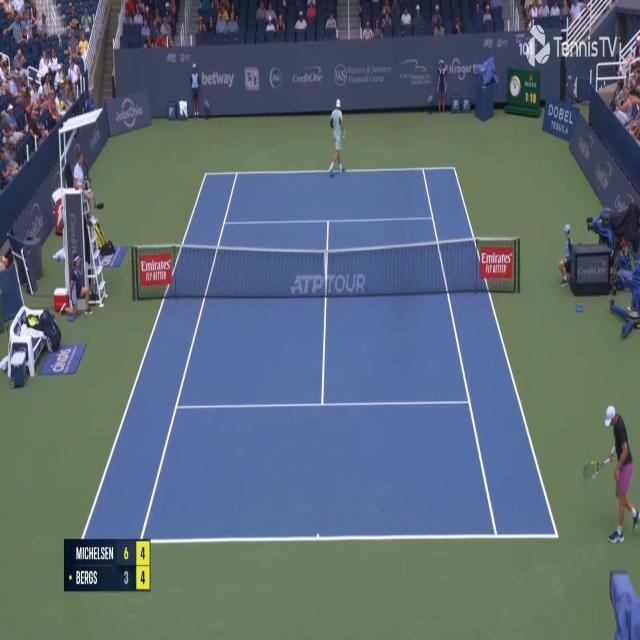tennis-player: (582, 400, 640, 548), (327, 97, 346, 177)
